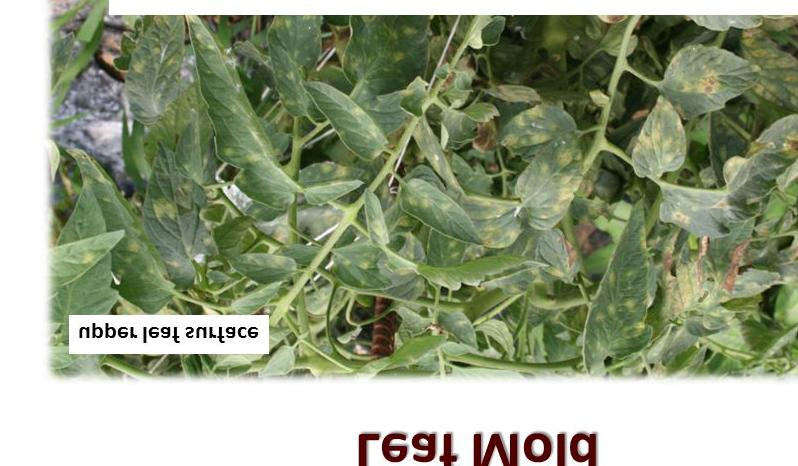Tomato mold leaf: (63, 149, 191, 312), (182, 18, 290, 208), (683, 114, 798, 233), (572, 195, 650, 369), (401, 176, 536, 256), (137, 121, 206, 271), (661, 41, 768, 122), (301, 75, 390, 162), (513, 138, 584, 232), (624, 88, 690, 181), (738, 35, 798, 132), (264, 18, 319, 118), (332, 242, 398, 293), (296, 169, 368, 207), (233, 250, 303, 283), (365, 188, 391, 248)
